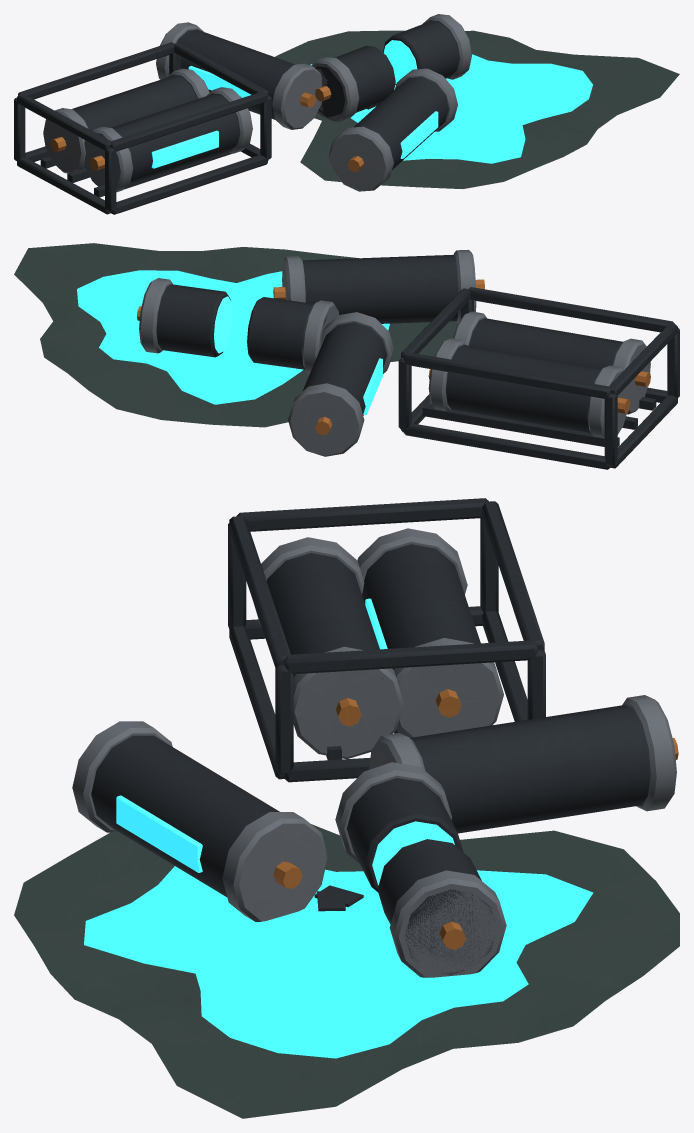
File: fuel_cell_spill.glb
The picture shows the model from 3 angles, top to bottom: view 1: azimuth 30°, elevation 25°; view 2: azimuth 150°, elevation 25°; view 3: azimuth 270°, elevation 25°; orthographic projection. The views are drawn at different scales.
Parts seen in each view (by area): view 1: fuel_cell_spill; view 2: fuel_cell_spill; view 3: fuel_cell_spill.
Boxes of the visible parts, bbox=[...] form: fuel_cell_spill: bbox=[14, 14, 679, 214]; fuel_cell_spill: bbox=[14, 243, 679, 469]; fuel_cell_spill: bbox=[14, 498, 679, 1118].
Size of the model in its own units: 3.48 by 0.425 by 1.96.
Materials: 7 (4 with a texture image).
